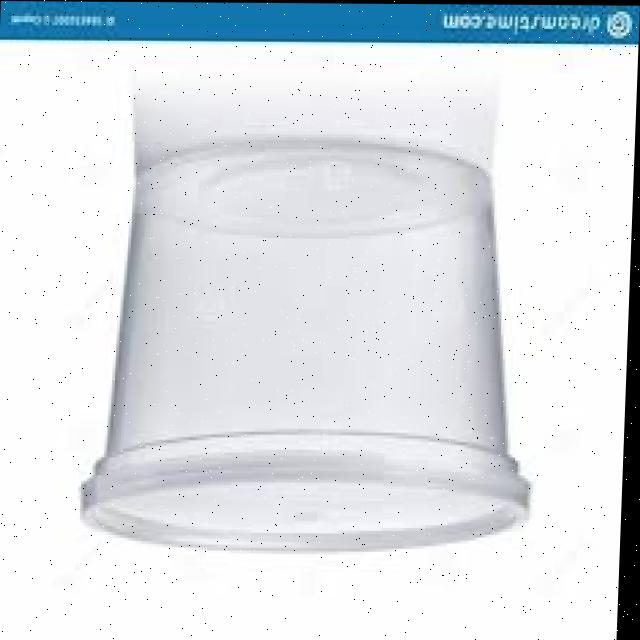disposable: (66, 118, 550, 562)
